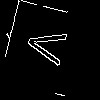V: (25, 25, 76, 69)
